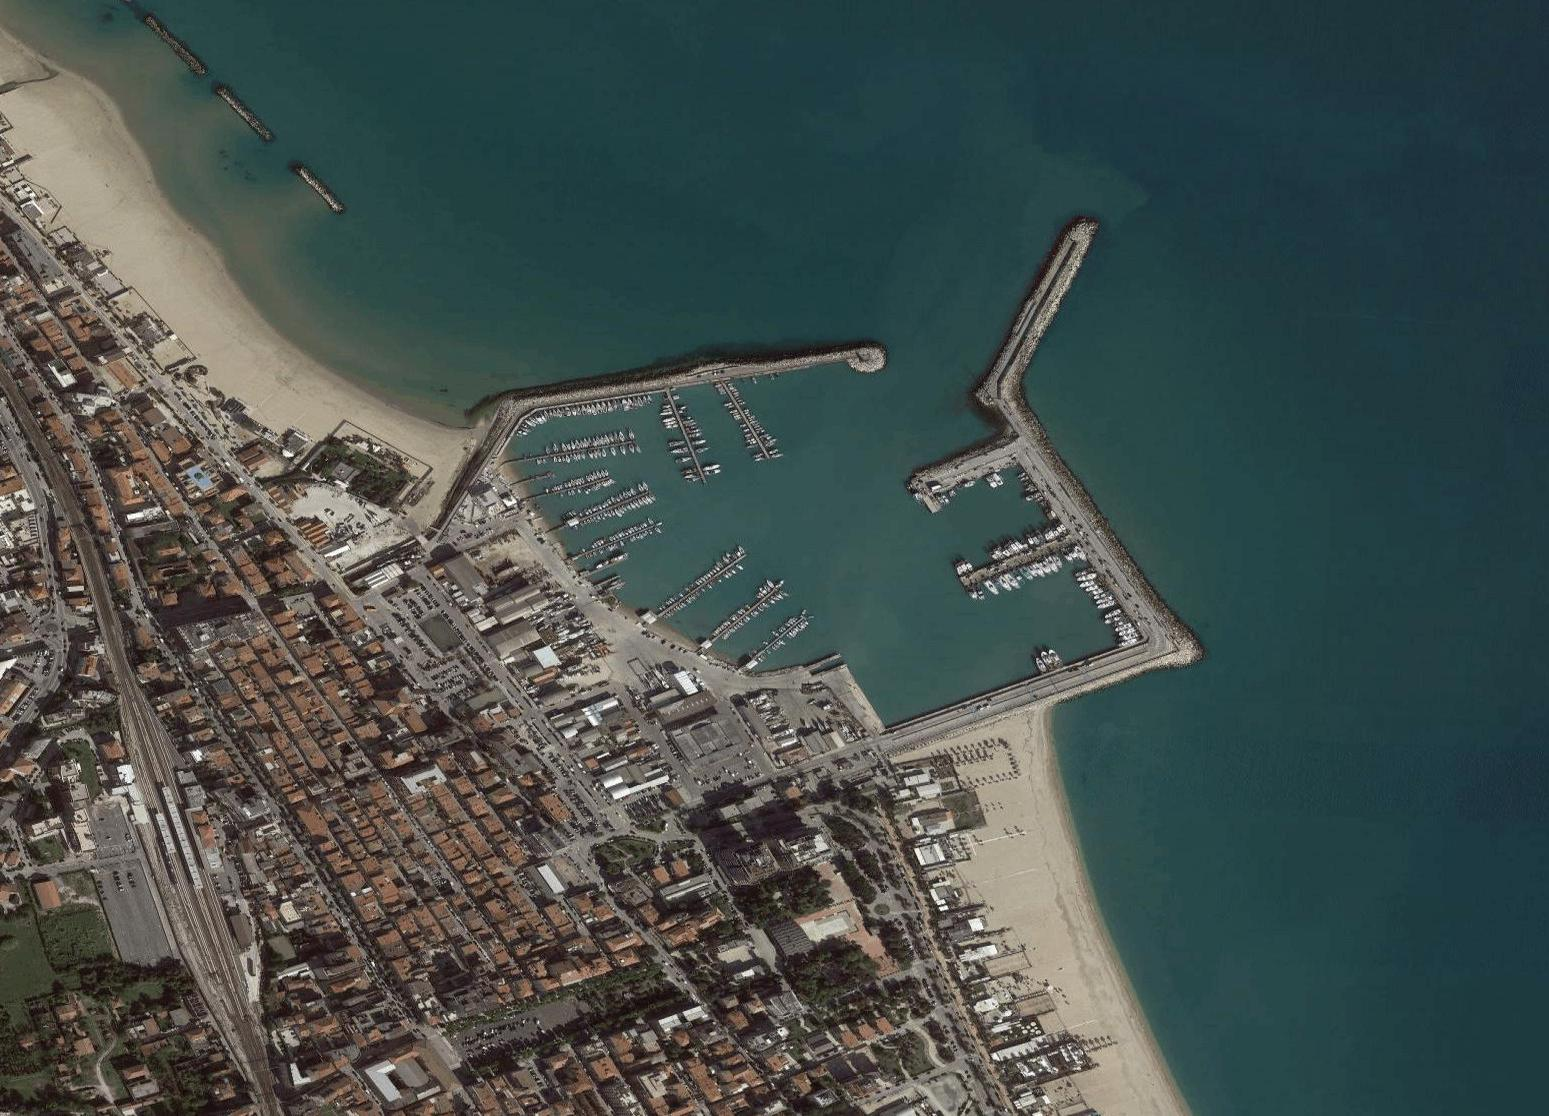harbor: (477, 227, 1188, 742)
train_station: (96, 748, 271, 983)
